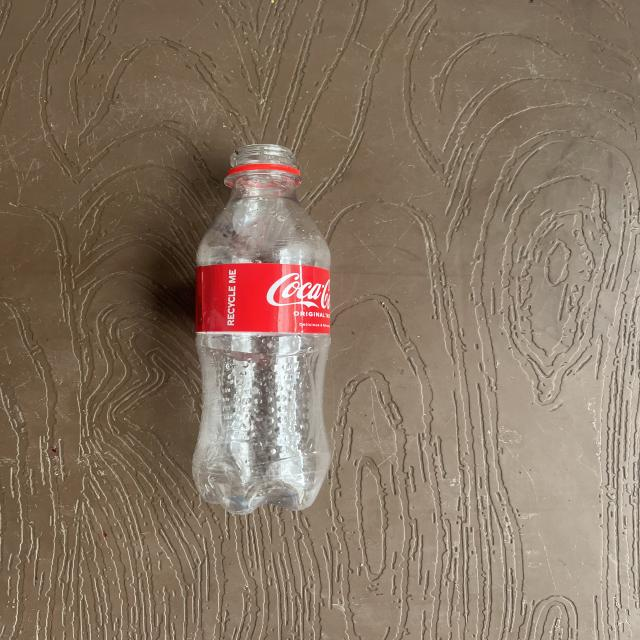REJECT: (68, 141, 372, 517)
